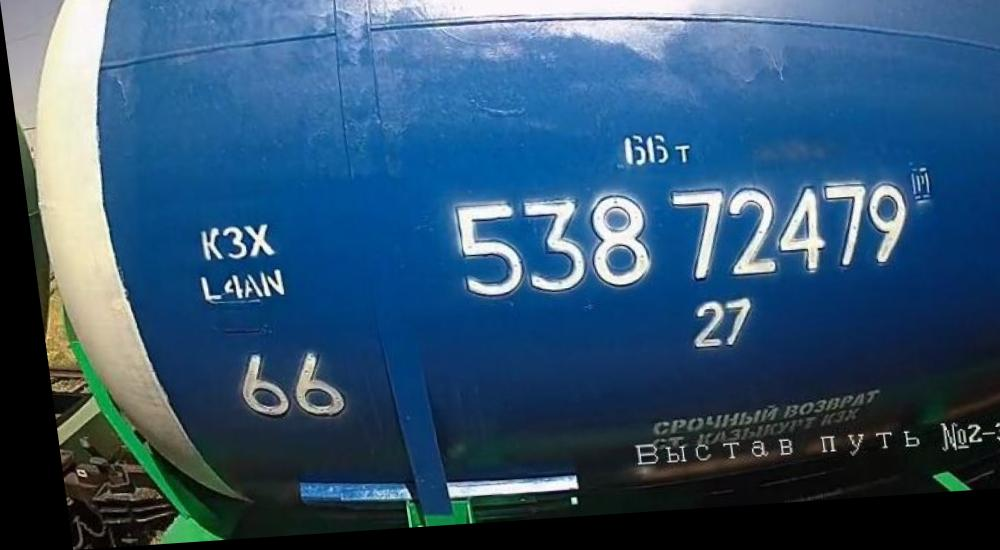Wagon-number: (437, 176, 909, 306)
